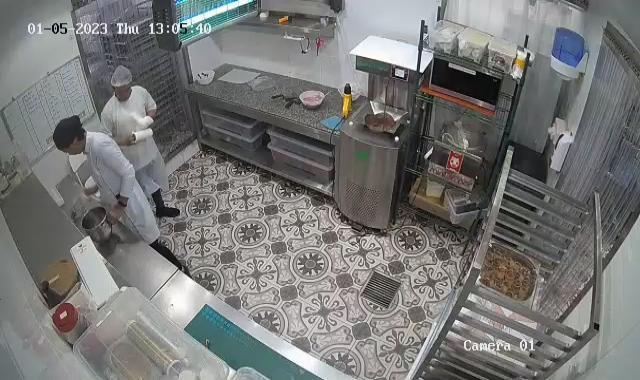hairnet: (110, 65, 132, 88)
no_hairnet: (52, 115, 86, 151)
